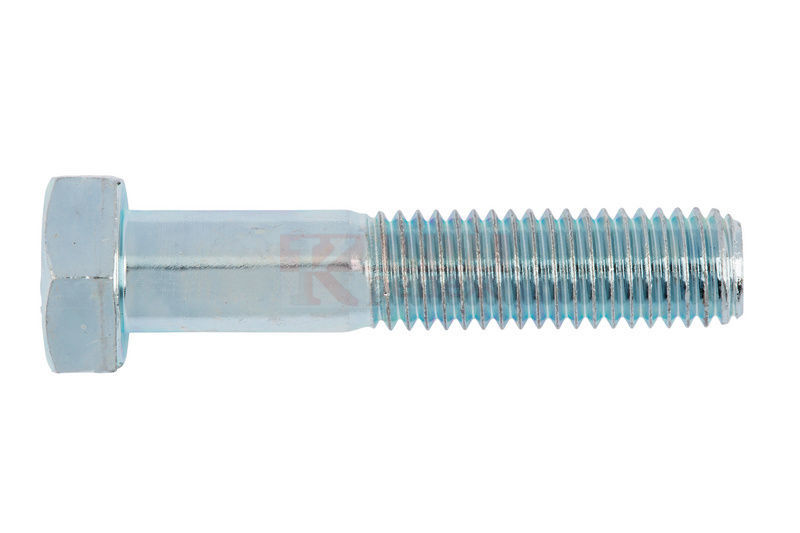screw: (39, 176, 744, 375)
